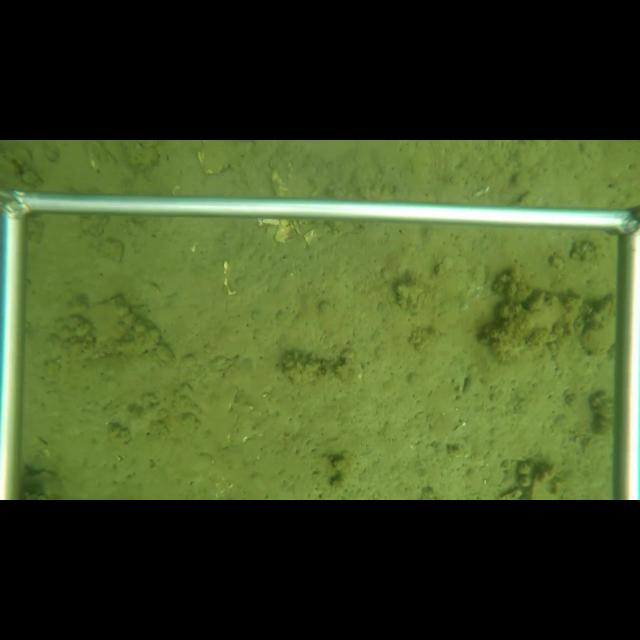Oyster-Closed: (579, 294, 618, 355)
